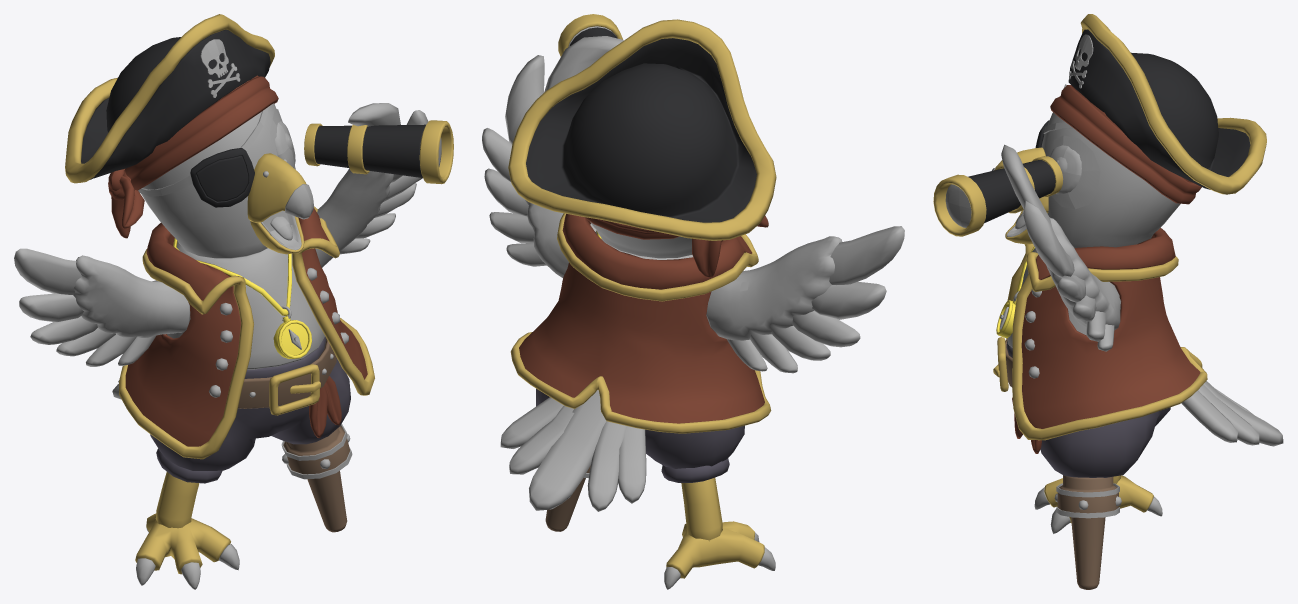
The model's file is Pirate_Bird.fbx.
The picture shows the model from 3 angles, left to right: view 1: azimuth 30°, elevation 25°; view 2: azimuth 150°, elevation 25°; view 3: azimuth 270°, elevation 25°; orthographic projection. The views are drawn at different scales.
Visible parts, largest first — view 1: S_Pirate_Bird6, S_Pirate_Bird3, S_Pirate_Bird5, S_Pirate_Bird, S_Pirate_Bird12, S_Pirate_Bird16, M_Pirate_Bird33, S_Pirate_Bird4, S_Pirate_Bird1, S_Pirate_Bird17, M_Pirate_Bird28, M_Pirate_Bird32 (+17 smaller); view 2: S_Pirate_Bird3, S_Pirate_Bird6, S_Pirate_Bird4, M_Pirate_Bird33, S_Pirate_Bird5, S_Pirate_Bird17, M_Pirate_Bird34, S_Pirate_Bird16, M_Pirate_Bird16, M_Pirate_Bird35, M_Pirate_Bird17, M_Pirate_Bird26 (+17 smaller); view 3: S_Pirate_Bird6, S_Pirate_Bird3, S_Pirate_Bird, S_Pirate_Bird5, S_Pirate_Bird4, S_Pirate_Bird16, S_Pirate_Bird12, S_Pirate_Bird7, S_Pirate_Bird18, M_Pirate_Bird28, M_Pirate_Bird32, M_Pirate_Bird26 (+12 smaller).
Part boxes in pixels (x1,y1,x2,y2): S_Pirate_Bird6: (125,208,367,446); S_Pirate_Bird3: (81,29,270,179); S_Pirate_Bird5: (119,206,374,459); S_Pirate_Bird: (141,103,276,258); S_Pirate_Bird12: (108,75,278,238); S_Pirate_Bird16: (150,336,350,483); M_Pirate_Bird33: (73,255,190,337); S_Pirate_Bird4: (65,14,274,183); S_Pirate_Bird1: (167,241,324,369); S_Pirate_Bird17: (135,472,230,574); M_Pirate_Bird28: (314,124,425,177); M_Pirate_Bird32: (315,168,393,267); S_Pirate_Bird3: (526,38,756,222); S_Pirate_Bird6: (519,214,764,423); S_Pirate_Bird4: (508,19,776,240); M_Pirate_Bird33: (706,236,842,340); S_Pirate_Bird5: (510,213,771,433); S_Pirate_Bird17: (666,477,764,578); M_Pirate_Bird34: (529,390,606,510); S_Pirate_Bird16: (536,388,744,482); M_Pirate_Bird16: (829,226,904,284); M_Pirate_Bird35: (587,421,627,511); M_Pirate_Bird17: (811,281,886,319); M_Pirate_Bird26: (505,55,544,144); S_Pirate_Bird6: (1021,227,1200,428); S_Pirate_Bird3: (1068,29,1250,189); S_Pirate_Bird: (1041,112,1180,247); S_Pirate_Bird5: (1006,244,1207,440); S_Pirate_Bird4: (1080,14,1266,194); S_Pirate_Bird16: (1006,340,1170,477); S_Pirate_Bird12: (1050,85,1201,204); S_Pirate_Bird7: (1057,475,1118,589); S_Pirate_Bird18: (933,156,1063,236); M_Pirate_Bird28: (968,160,1055,223); M_Pirate_Bird32: (1046,217,1120,330); M_Pirate_Bird26: (1023,200,1074,277).
Bounding box in the file's own units: 577 × 707 × 439.
